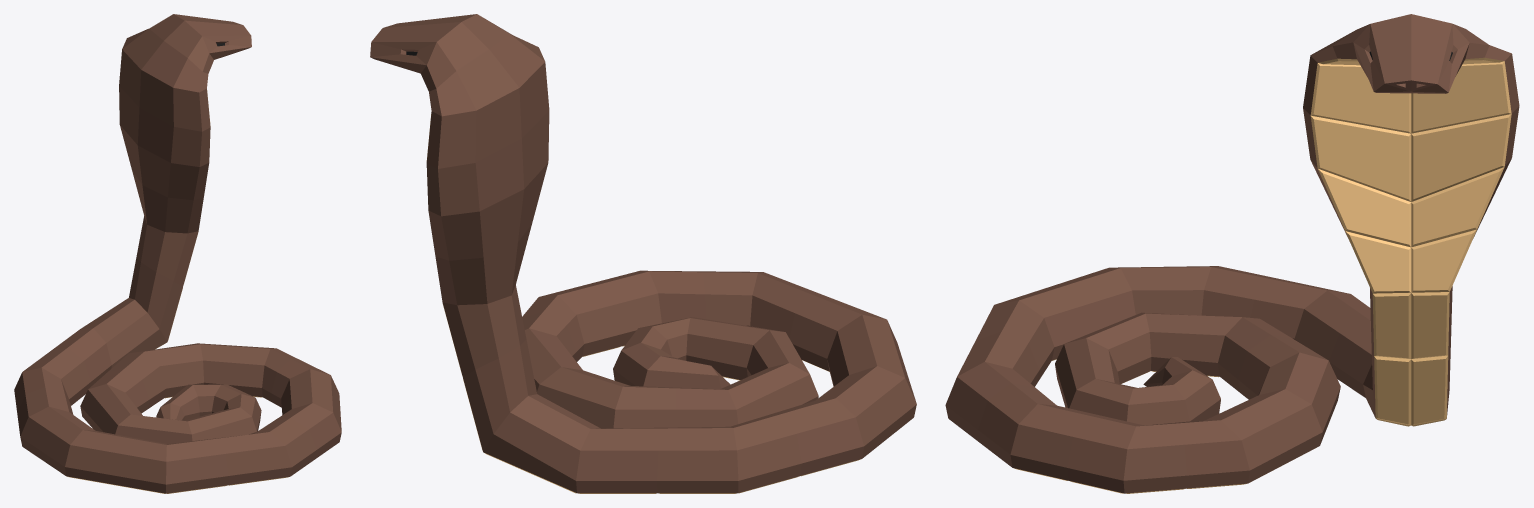
Rendered from cobra_jeremy.glb.
3 views of the same model, side by side, from view 1: azimuth 30°, elevation 25°; view 2: azimuth 150°, elevation 25°; view 3: azimuth 270°, elevation 25° (orthographic). The views are drawn at different scales.
Visible parts, largest first — view 1: Snake_01_Circle.010; view 2: Snake_01_Circle.010; view 3: Snake_01_Circle.010.
Part boxes in pixels (x1,y1,x2,y2): Snake_01_Circle.010: (14, 14, 341, 493); Snake_01_Circle.010: (370, 14, 916, 493); Snake_01_Circle.010: (945, 14, 1519, 493).
Bounding box in the file's own units: 9.46 × 9.96 × 11.59.
